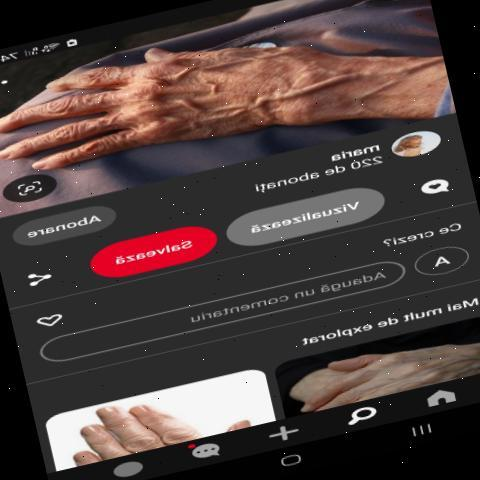Hands: (0, 6, 392, 182)
